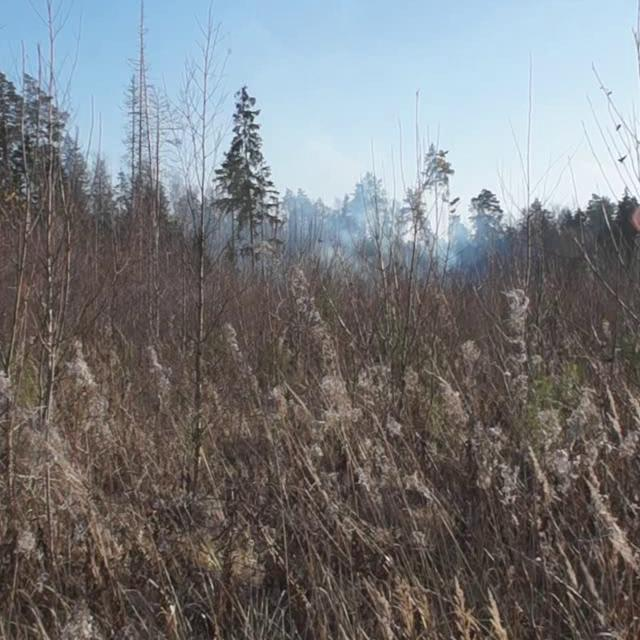Smoke: (155, 156, 512, 292)
